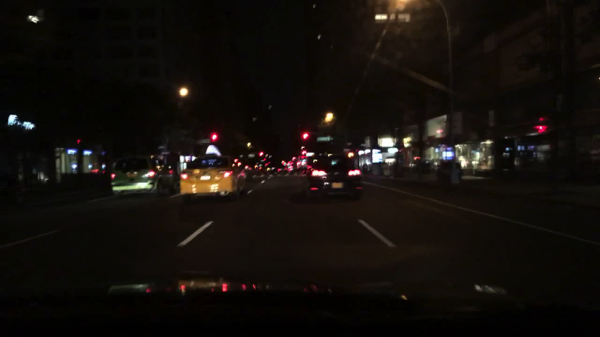car: (180, 143, 248, 204), (108, 153, 179, 199), (302, 154, 363, 201), (301, 156, 320, 178), (245, 163, 264, 175), (279, 168, 296, 176), (264, 167, 279, 176)
traffic light: (210, 132, 218, 142), (302, 133, 308, 141), (259, 151, 264, 158), (301, 150, 306, 156)
traffic sign: (445, 112, 462, 136), (316, 137, 330, 142), (305, 152, 316, 157), (158, 146, 167, 150), (248, 154, 256, 158), (342, 149, 350, 152), (346, 142, 352, 146)
